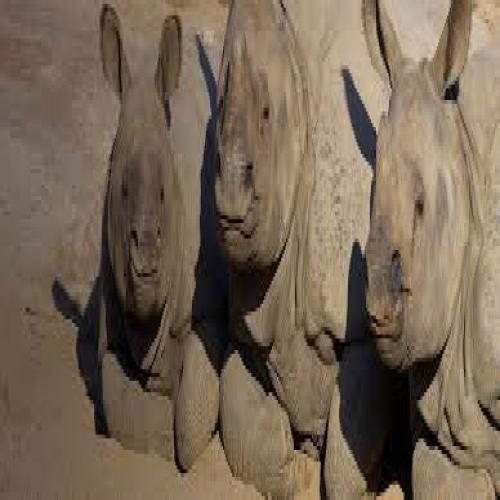rhino-endangered: (213, 0, 366, 500), (366, 0, 500, 500), (97, 0, 219, 458)
